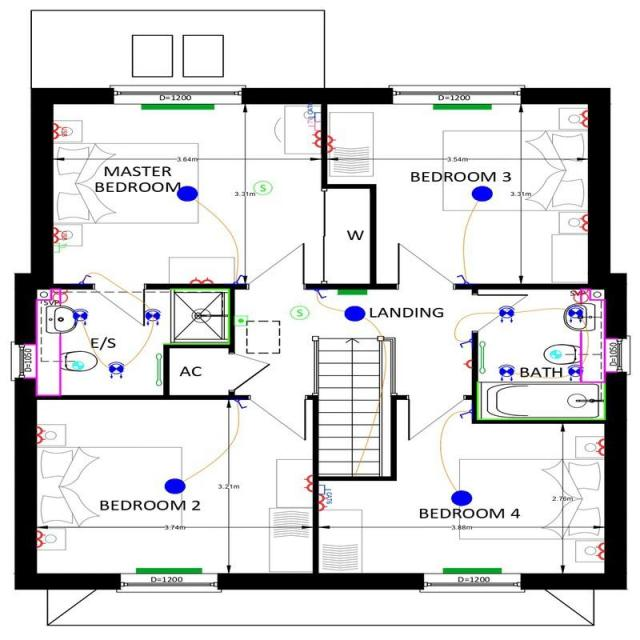Cat 6 Data Socket: (306, 102, 320, 120), (318, 484, 331, 503)
Ceiling Mounted Continuous Extract FanWith Boost Mode Activated By Light Switch: (72, 360, 83, 370), (549, 349, 561, 358)
Co-Ax TV Socket: (307, 118, 320, 130)
Double Socket: (594, 438, 604, 456), (326, 134, 336, 152), (35, 426, 45, 443), (594, 542, 604, 559), (303, 474, 312, 492), (190, 276, 212, 283), (36, 530, 45, 547), (318, 494, 327, 511), (578, 213, 587, 230), (578, 109, 587, 126), (311, 130, 320, 146)
Full Height Tiling: (476, 382, 605, 420), (162, 288, 228, 344)
Light Switch: (234, 398, 247, 408), (458, 338, 472, 347), (314, 289, 326, 298), (459, 409, 471, 418), (456, 274, 468, 282), (80, 274, 90, 283), (233, 274, 243, 282)
Low Energy Downlighter: (107, 360, 124, 378), (498, 304, 514, 322), (567, 304, 583, 322), (498, 363, 514, 381), (71, 308, 87, 325), (144, 308, 160, 325), (567, 364, 583, 380)
Low Energy Pendant Light: (343, 305, 365, 321), (176, 185, 197, 201), (451, 490, 472, 506), (164, 478, 185, 493), (471, 186, 492, 200)
Mains Wired Smoke Detector: (253, 180, 272, 194), (290, 305, 308, 319)
Programmable Room Thermostat: (234, 314, 247, 325)
Radiator: (140, 103, 213, 109), (442, 567, 502, 574), (135, 567, 201, 573), (433, 104, 491, 109), (337, 289, 366, 294)
Shaver Socket: (51, 288, 67, 305), (572, 288, 587, 304)
Single Socket: (462, 359, 472, 367)
Telephone Socket: (52, 242, 66, 252)
USB Double Socket: (52, 226, 66, 242), (53, 122, 66, 138)
